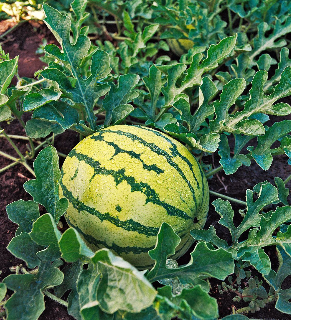dua_hau: (58, 122, 212, 271)
